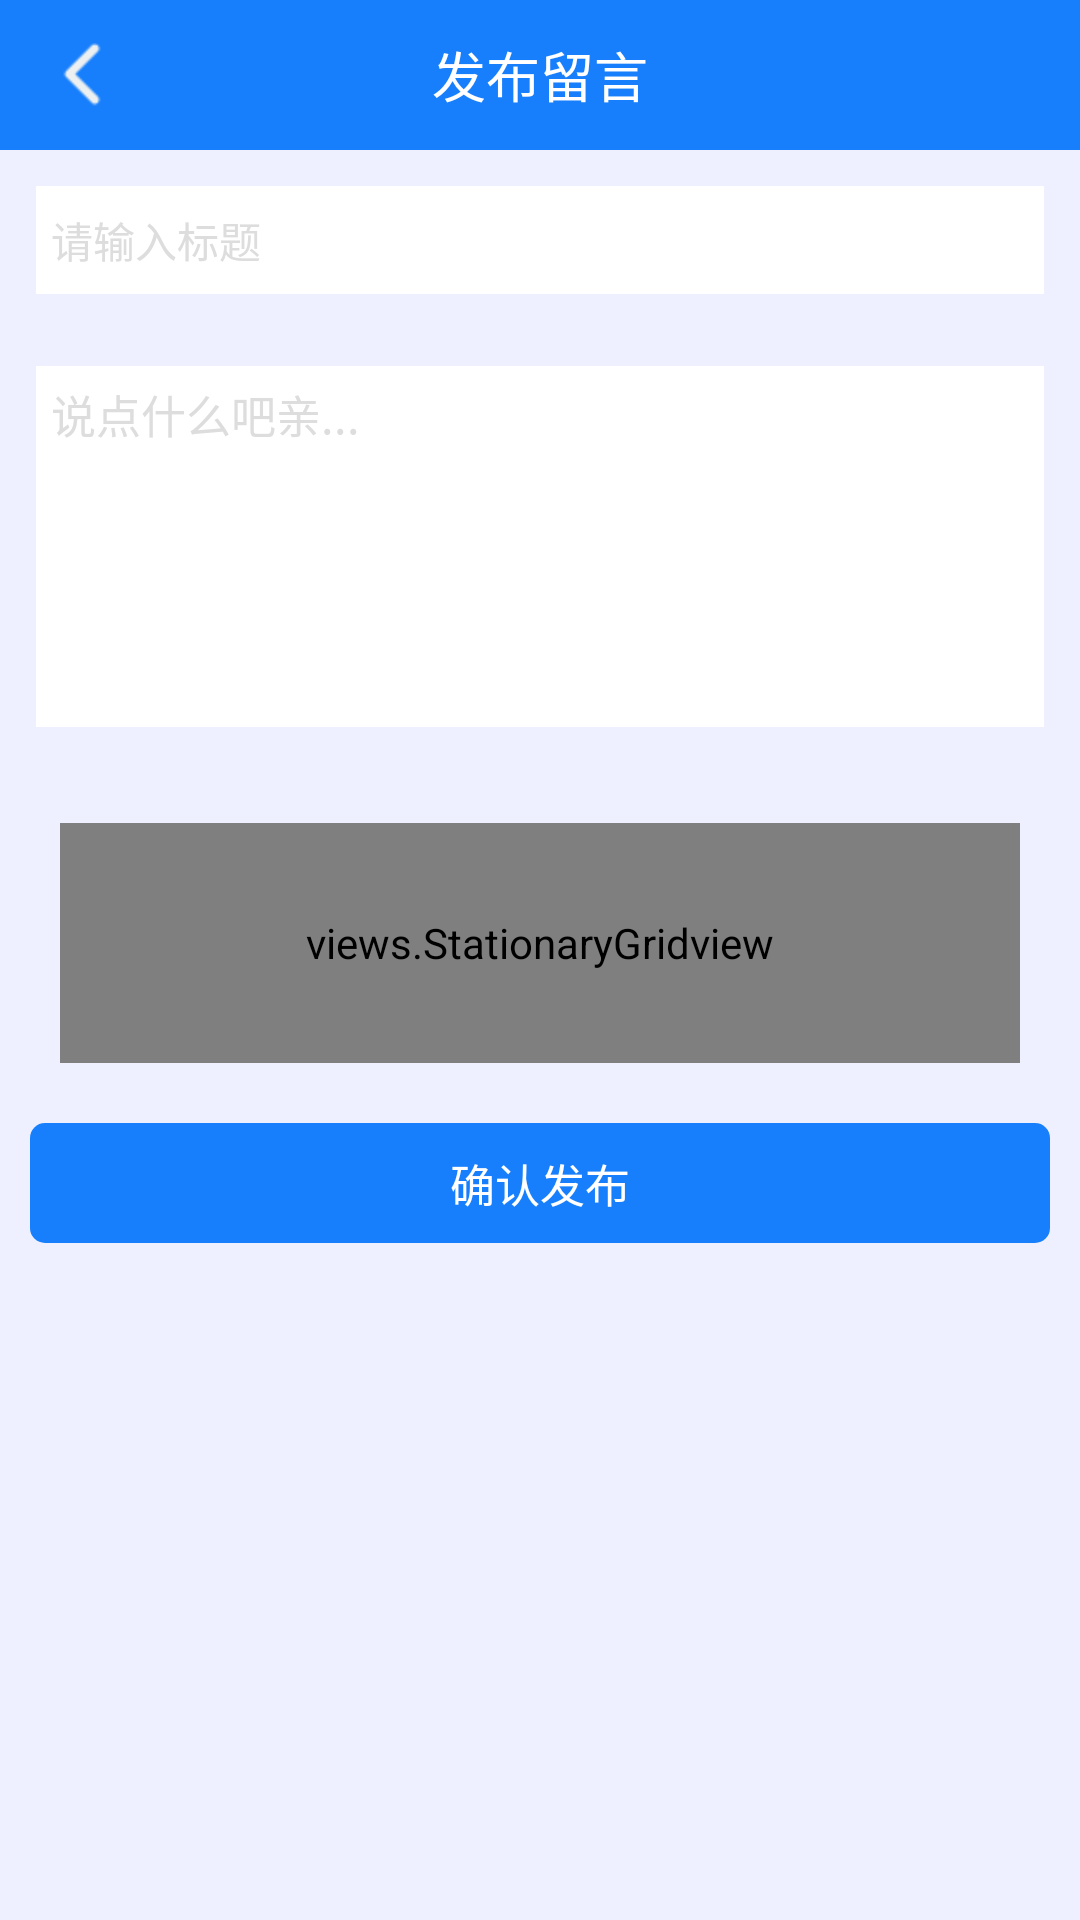

Icons on this 1080 x 1920 Android screen, each with the point to tap as (x,y):
back: (82,74)
